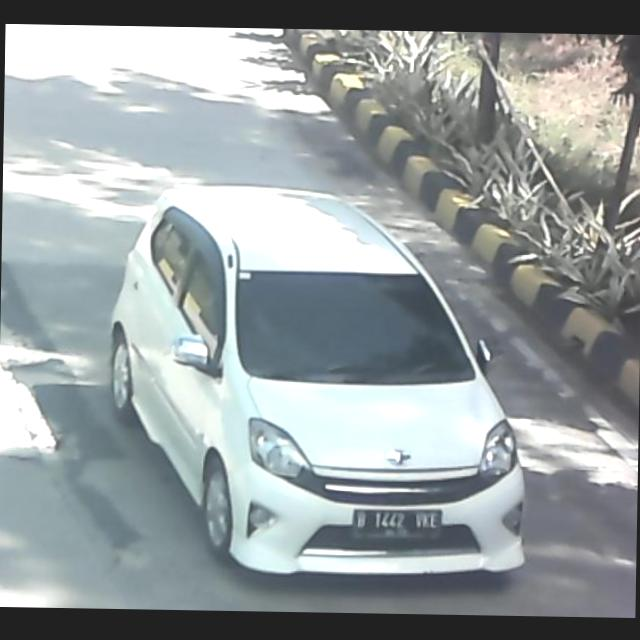plate: (349, 505, 444, 538)
